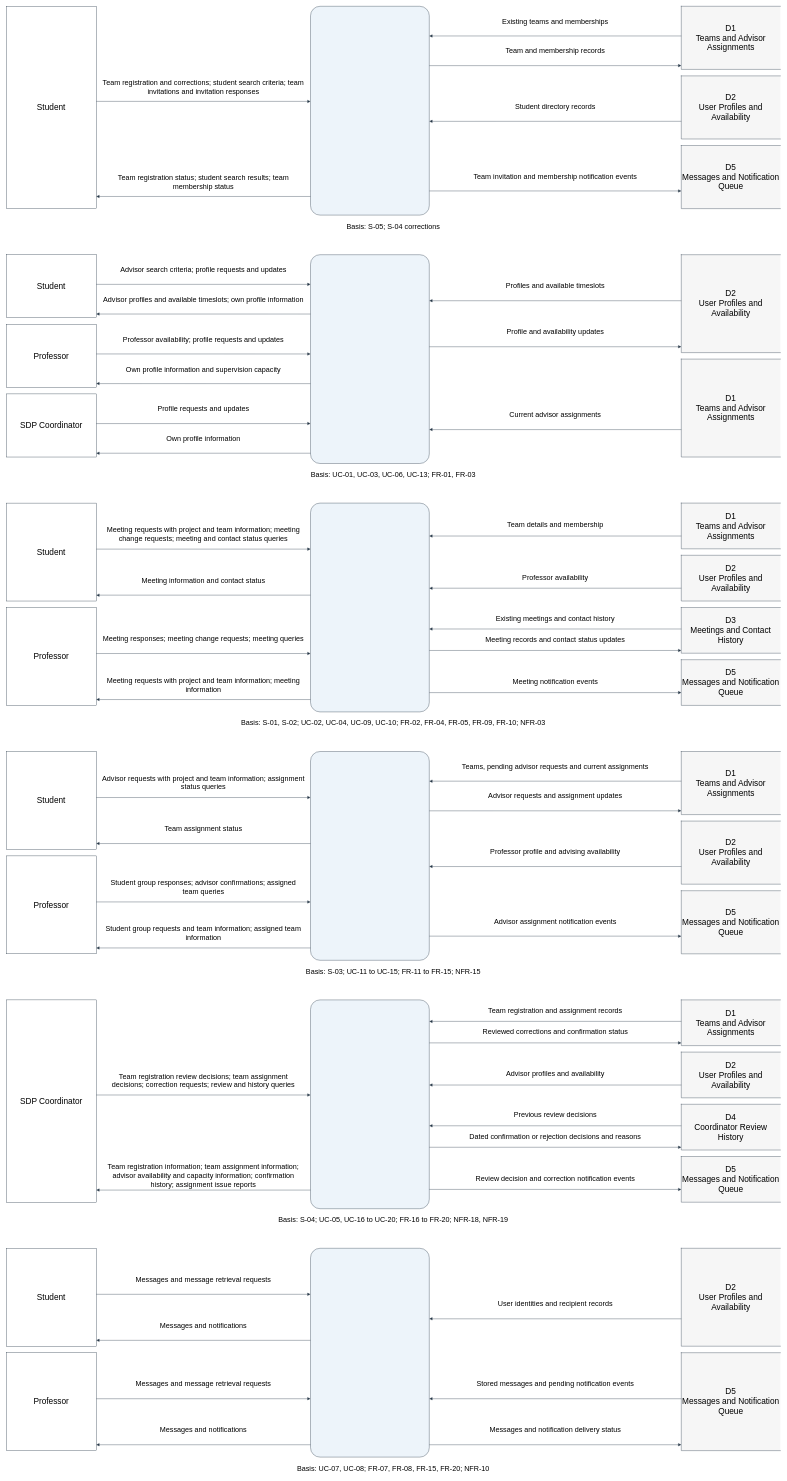
Some shapes in this 787 by 1481 pixel diagram are drawn without their labels. Each missing label, with the centre of its shape:
"P1 Manage Teams" goes at point 369,110.
"P2 Manage Profiles and Advisor Search" goes at point 369,359.
"P3 Manage Meetings" goes at point 369,607.
"P4 Manage Advisor Assignments" goes at point 369,855.
"P5 Review and Confirm Teams" goes at point 369,1104.
"P6 Manage Messages and Notifications" goes at point 369,1352.
